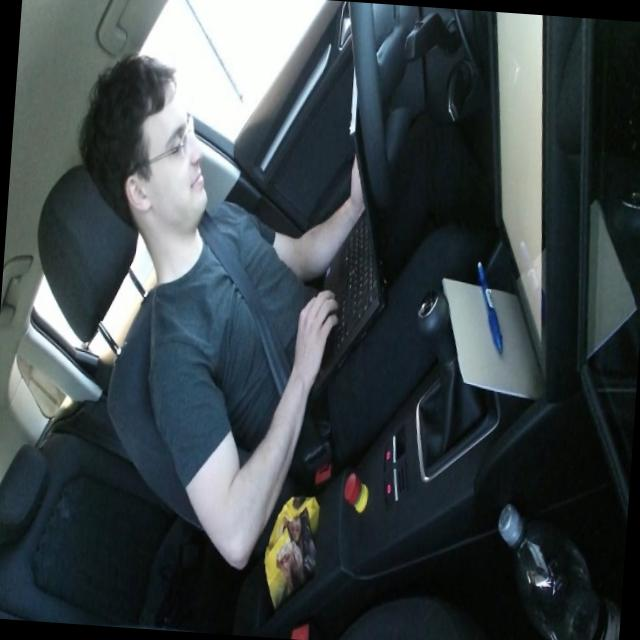pen: (469, 256, 509, 354)
